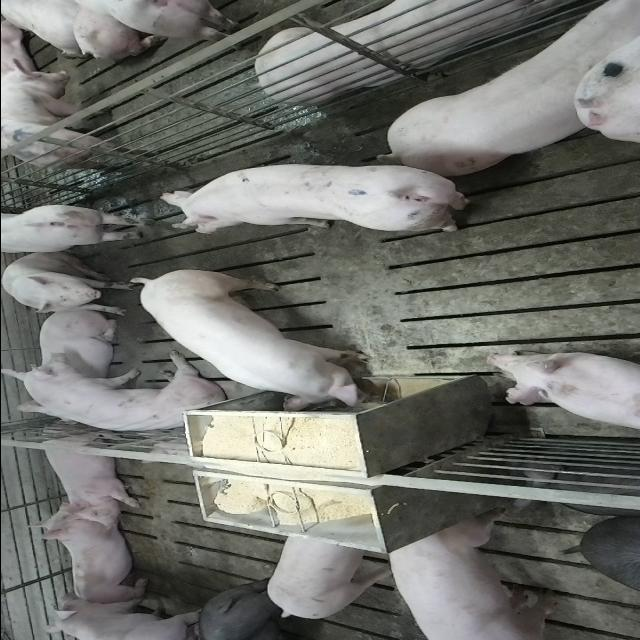Feeding: (134, 273, 382, 417)
Sitting: (5, 356, 231, 439), (1, 253, 131, 315)
Standing: (157, 161, 480, 235), (383, 516, 568, 638), (0, 72, 138, 174), (266, 535, 394, 621), (2, 202, 152, 256), (38, 597, 205, 640), (190, 583, 312, 640)
Sternal_lying: (249, 0, 579, 102), (24, 502, 148, 606), (485, 350, 640, 433), (21, 312, 127, 424)
